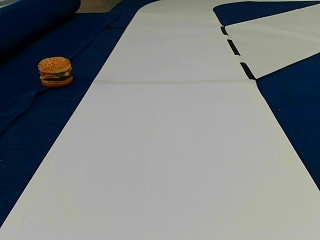burger: (37, 54, 74, 86)
